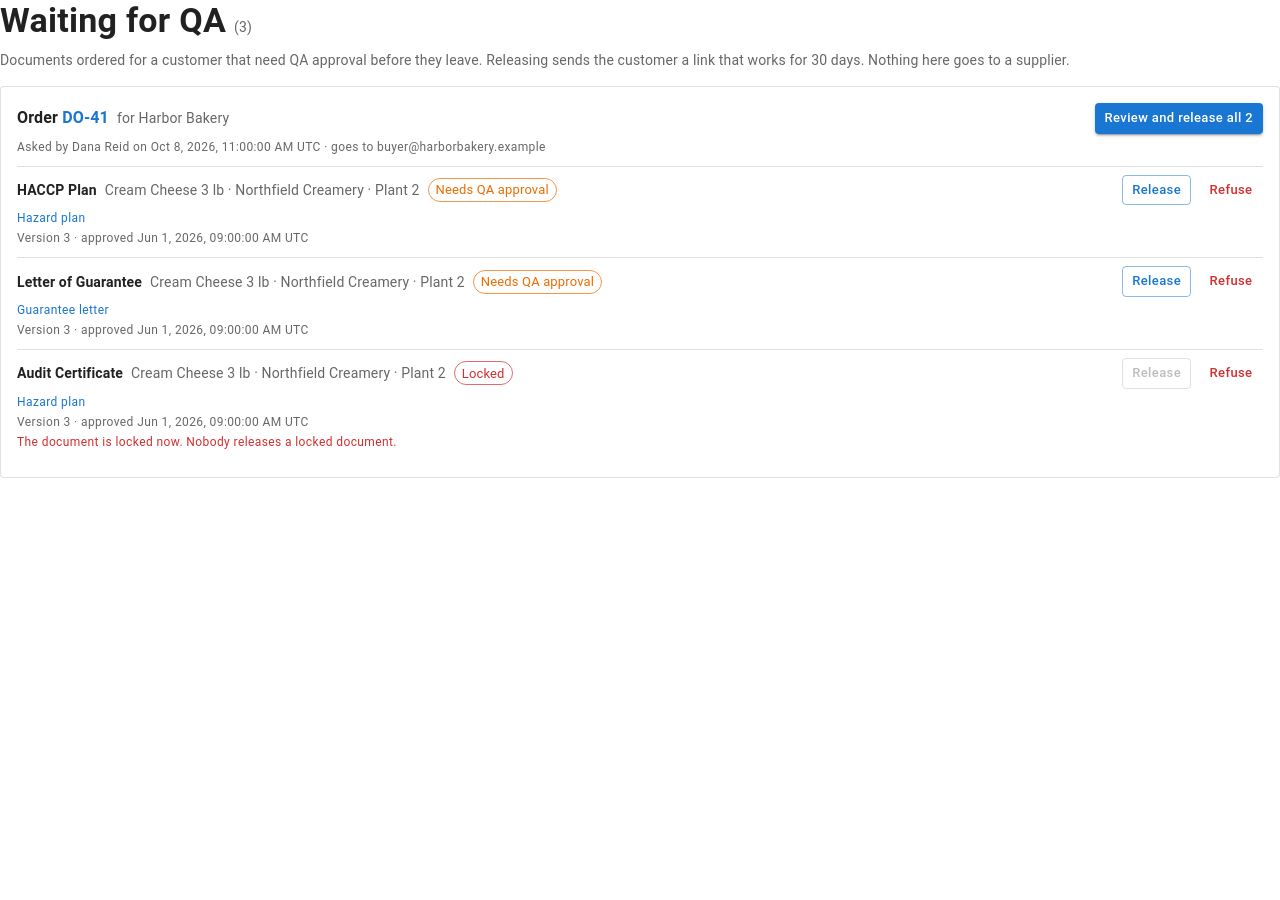
OrdersWaitingForQa › lists what is waiting by order, with the count, who asked and who it goes to
This screenshot has width=1280, height=900.
Expected: the text with test id "waiting-count" reads "(3)", [234, 17, 252, 37]
Expected: the element with test id "waiting-order" shows "Order DO-41", [0, 86, 1279, 478]
Click the button with test id "waiting-release-all": (1179, 118) [1095, 103, 1263, 134]
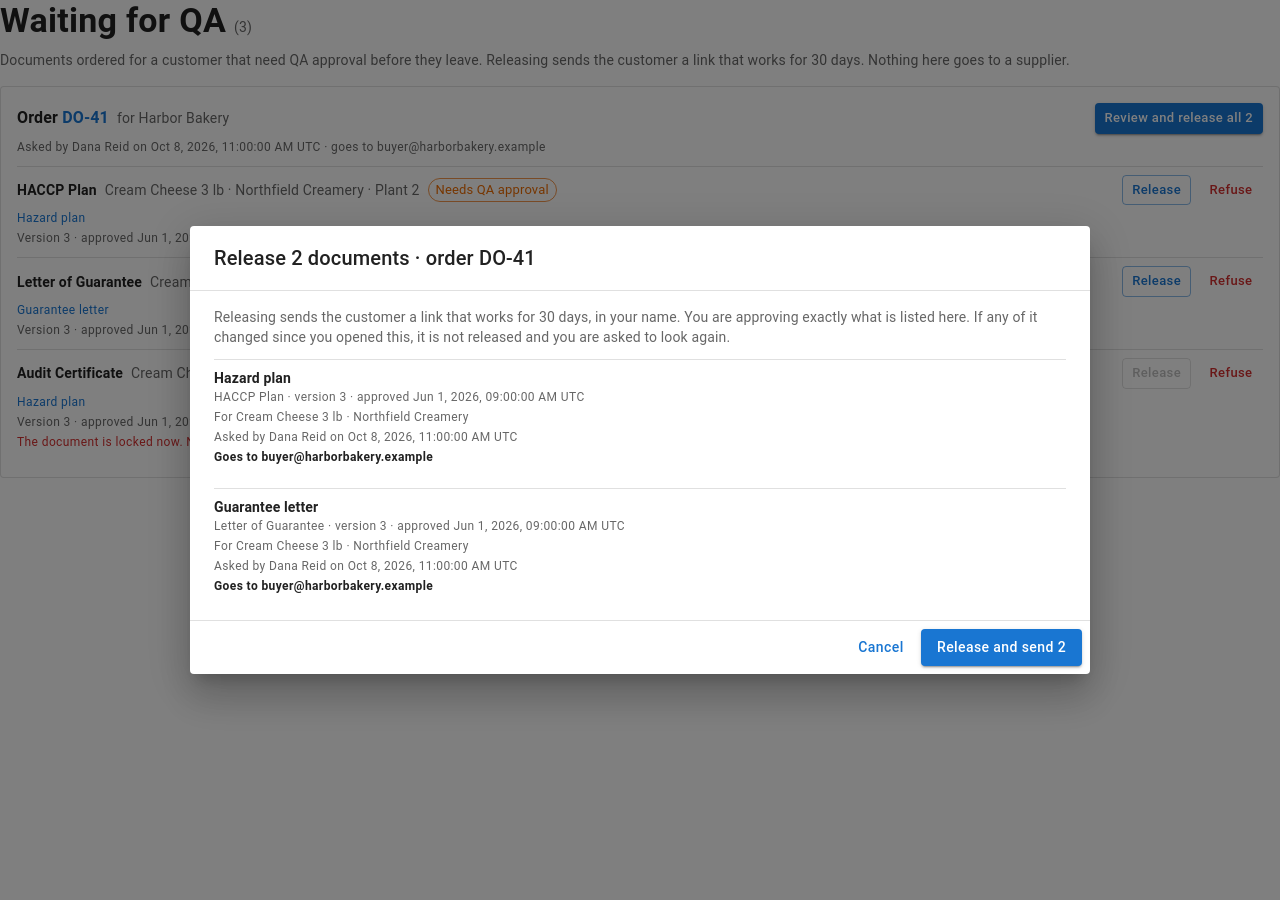
Expected: the number of elements with test id "release-candidate" is 2, [214, 359, 1066, 476]; [214, 488, 1066, 604]
Expected: the element with test id "release-candidate" shows "Hazard plan", [214, 370, 291, 386]
Expected: the element with test id "release-candidate" shows "HACCP Plan · version 3 · approved", [214, 390, 585, 404]
Click the button with test id "release-confirm": (1002, 648) [921, 629, 1082, 666]
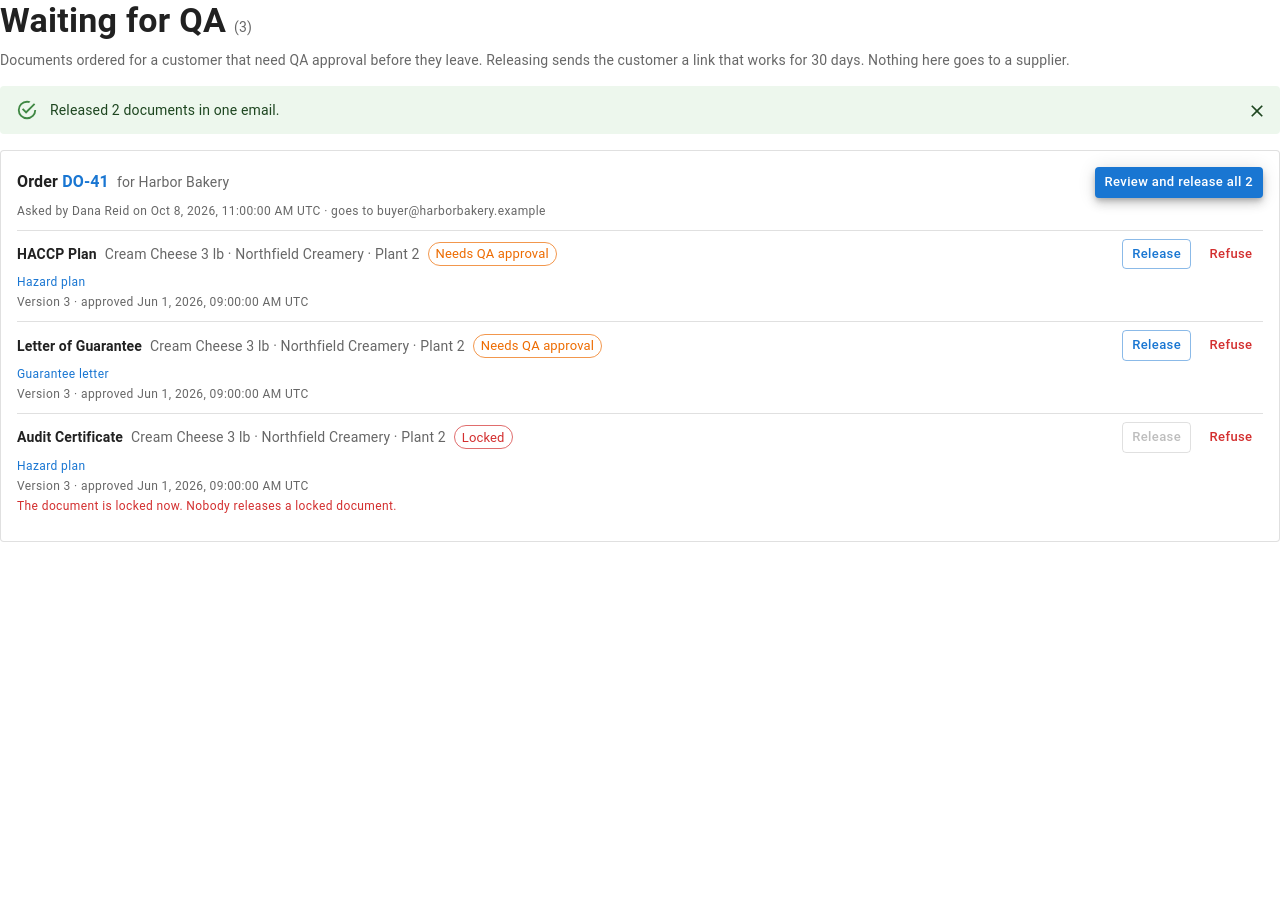
Expected: the text "Released 2 documents in one email." is shown, [50, 102, 280, 118]
